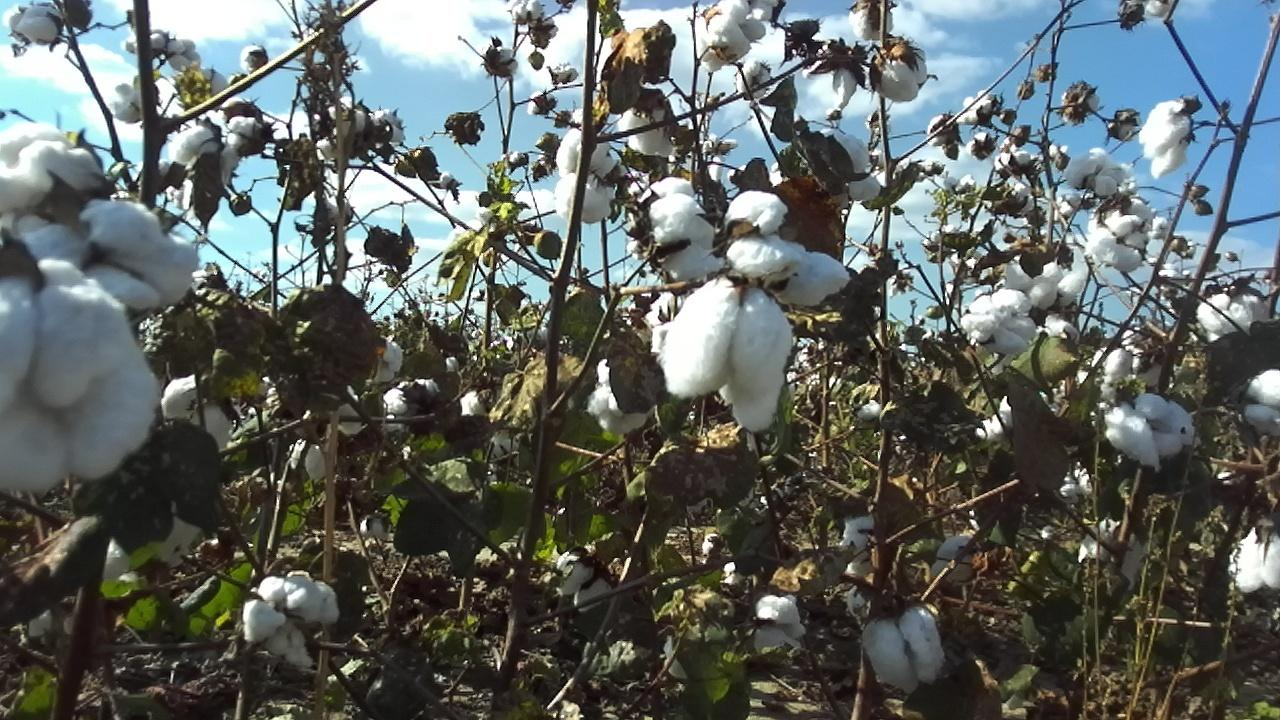cotton_ready: (0, 122, 202, 310), (662, 235, 852, 434), (0, 259, 160, 494), (650, 189, 785, 285), (99, 495, 214, 590), (241, 572, 339, 668), (861, 599, 949, 698), (1105, 397, 1197, 471), (555, 126, 621, 227), (160, 374, 237, 457), (810, 125, 882, 204), (958, 289, 1039, 353), (699, 0, 766, 72), (590, 358, 652, 435), (1140, 97, 1195, 182), (553, 550, 617, 615), (1000, 262, 1088, 309), (620, 91, 677, 159), (1227, 522, 1280, 594), (1086, 215, 1152, 271), (1197, 290, 1272, 338), (870, 41, 927, 102), (1065, 149, 1126, 194), (1245, 367, 1280, 437)
